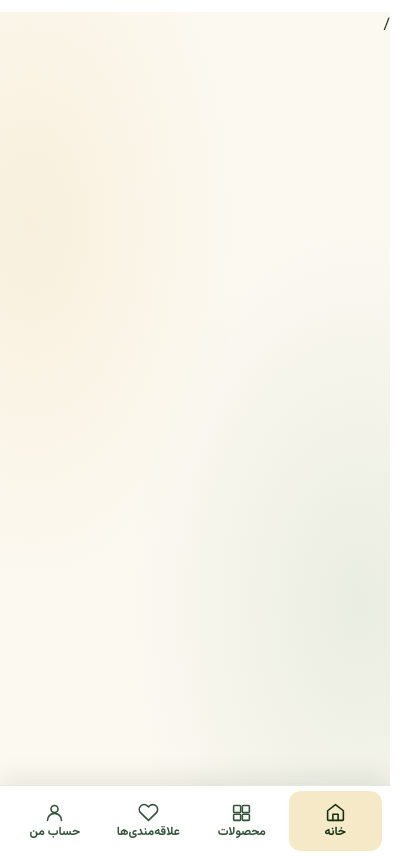
it: opens the existing favorites route directly for an authenticated customer
This screenshot has width=402, height=856.
What coordinates should you click on to do the following:
click the link to "/favorites"
I would click on:
 (148, 821)
Its box is [117, 802, 180, 841].
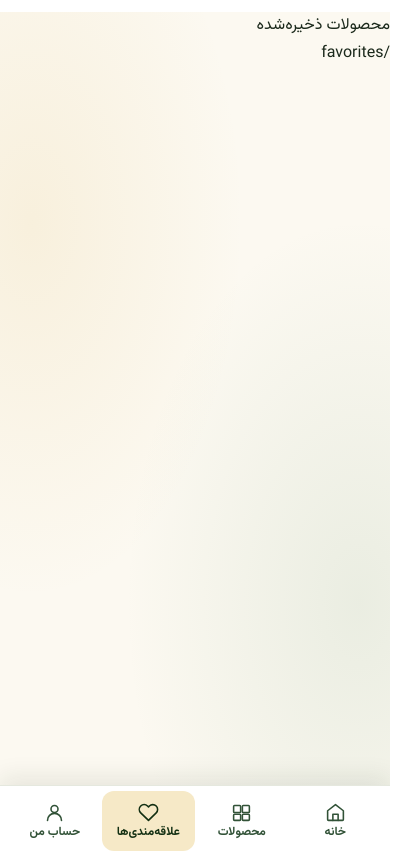
Check: the text "/favorites" is shown, box [321, 41, 390, 66]
Check: the text "محصولات ذخیره‌شده" is shown, box [257, 13, 390, 38]
